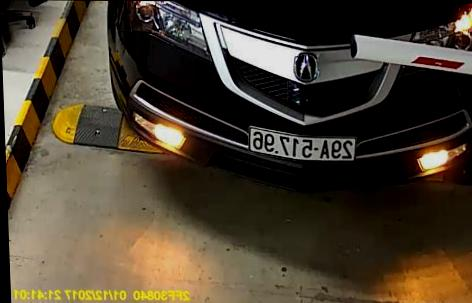License_Plate: (241, 127, 363, 165)
